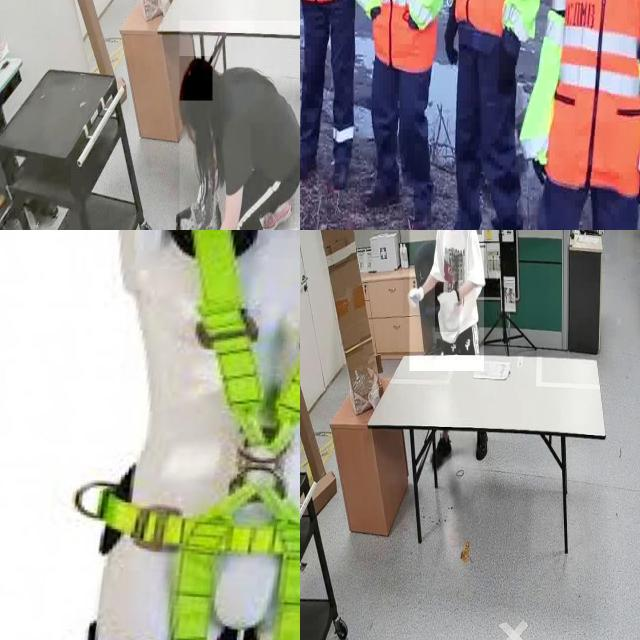Harness: (76, 230, 300, 640)
boots: (324, 123, 354, 189), (439, 190, 483, 230), (300, 129, 318, 186), (494, 200, 522, 230)
hand_glove: (495, 27, 516, 105), (435, 282, 460, 333), (444, 1, 460, 66), (403, 278, 427, 314)
head_nohelmet: (179, 56, 213, 102)
person: (179, 20, 300, 230), (432, 0, 535, 230), (545, 0, 640, 230), (359, 0, 437, 230), (300, 0, 365, 196), (409, 230, 484, 372)
shoes: (428, 432, 452, 474), (472, 428, 492, 463)
vest: (547, 0, 640, 191), (371, 0, 438, 65)
